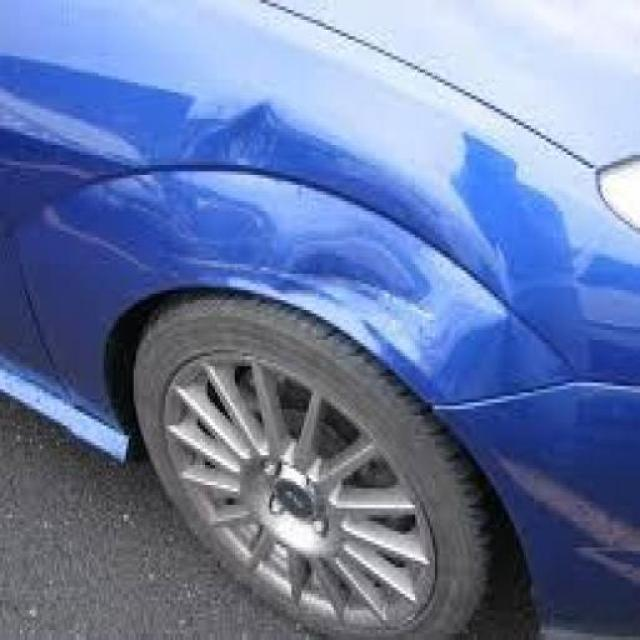dent: (272, 232, 422, 350), (215, 90, 294, 189)
scratch: (162, 237, 444, 353)
